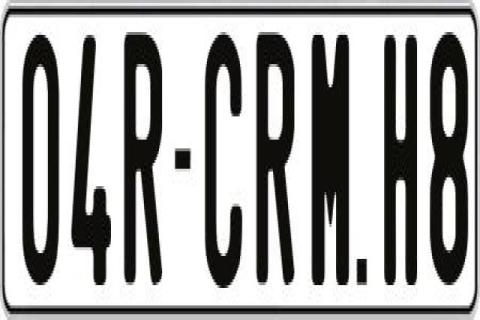0: (68, 27, 110, 286), (22, 29, 59, 291), (428, 27, 460, 286)
C: (202, 32, 240, 294)
H: (384, 29, 420, 285)
M: (310, 32, 347, 288)
R: (122, 29, 166, 297), (256, 24, 293, 282)
